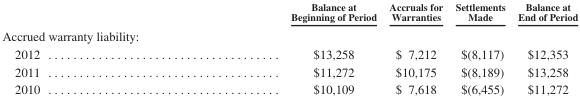table: (1, 0, 577, 96)
table column: (164, 0, 382, 96), (1, 0, 164, 96), (510, 0, 577, 96), (382, 0, 448, 96), (448, 0, 510, 96)
table column header: (1, 0, 577, 25)
table projected row header: (1, 25, 577, 44)
table row: (1, 0, 577, 25), (1, 25, 577, 44), (1, 44, 577, 62), (1, 62, 577, 80), (1, 80, 577, 96)
